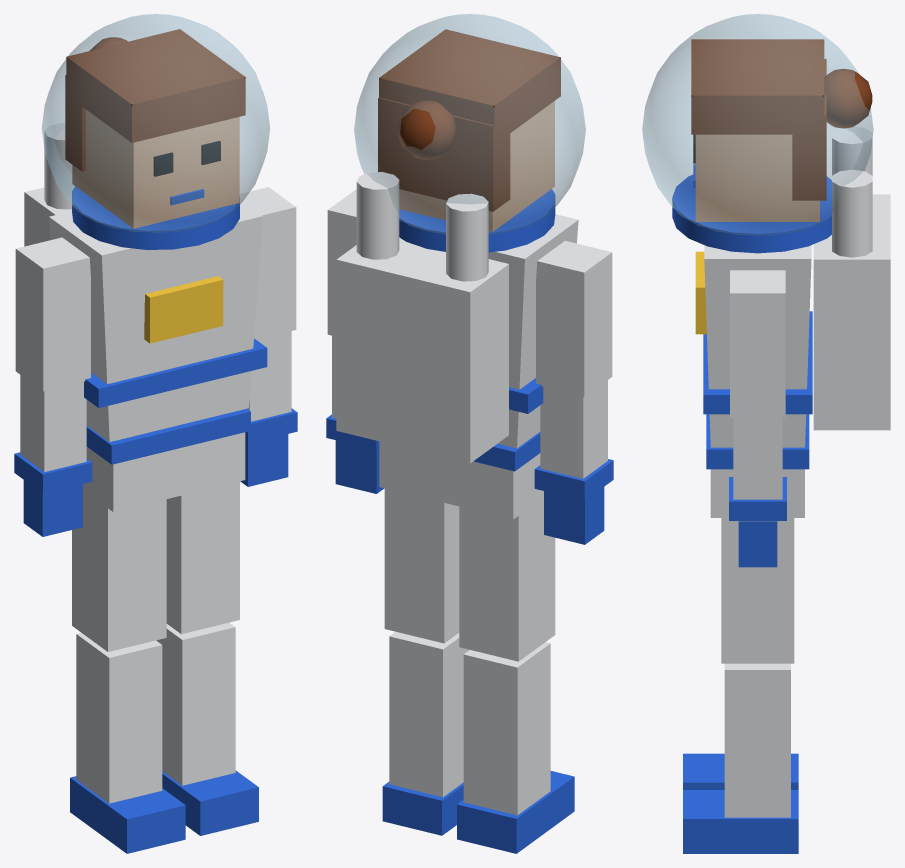
Rendered from Astronaut.obj.
3 views of the same model, side by side, from view 1: azimuth 30°, elevation 25°; view 2: azimuth 150°, elevation 25°; view 3: azimuth 270°, elevation 25° (orthographic).
Visible parts, largest first — view 1: HelmetBubble, Torso, Hair, Thigh_R, Shin_R, Head, Shin_L, UpperArm_R, Thigh_L, Pelvis, UpperArm_L, Forearm_R (+13 smaller); view 2: LifePack, HelmetBubble, Hair, Shin_R, Thigh_R, Shin_L, UpperArm_R, Thigh_L, Pelvis, Torso, Forearm_R, Head (+10 smaller); view 3: HelmetBubble, LifePack, Hair, Shin_L, Torso, Thigh_L, Head, UpperArm_L, Foot_L, HelmetRing, Forearm_L, ChestStripe (+6 smaller).
Boxes of the visible parts, box(x1,y1,x2,y2) form: HelmetBubble: box(42, 14, 269, 232); Torso: box(49, 199, 262, 441); Hair: box(65, 29, 245, 171); Thigh_R: box(72, 472, 166, 651); Shin_R: box(76, 632, 162, 803); Head: box(72, 109, 239, 228); Shin_L: box(156, 622, 235, 785); UpperArm_R: box(15, 237, 90, 391); Thigh_L: box(166, 481, 239, 634); Pelvis: box(86, 432, 245, 511); UpperArm_L: box(239, 187, 296, 339); Forearm_R: box(20, 375, 86, 471); LifePack: box(336, 172, 508, 463); HelmetBubble: box(354, 14, 585, 234); Hair: box(378, 29, 560, 211); Shin_R: box(463, 642, 550, 815); Thigh_R: box(459, 497, 555, 661); Shin_L: box(389, 631, 469, 797); UpperArm_R: box(536, 240, 612, 396); Thigh_L: box(384, 488, 459, 643); Pelvis: box(379, 441, 543, 519); Torso: box(488, 214, 578, 448); Forearm_R: box(540, 380, 607, 478); Head: box(399, 101, 554, 231); HelmetBubble: box(642, 14, 873, 235); LifePack: box(813, 126, 890, 430); Hair: box(691, 39, 872, 200); Shin_L: box(724, 663, 790, 817); Torso: box(704, 245, 811, 447); Thigh_L: box(721, 492, 794, 663); Head: box(695, 134, 819, 221); UpperArm_L: box(730, 270, 785, 417); Foot_L: box(683, 790, 798, 853); HelmetRing: box(672, 174, 831, 253); Forearm_L: box(733, 417, 782, 521); ChestStripe: box(703, 311, 812, 414).
Size of the model in its own units: 0.695 by 2.05 by 0.58.
